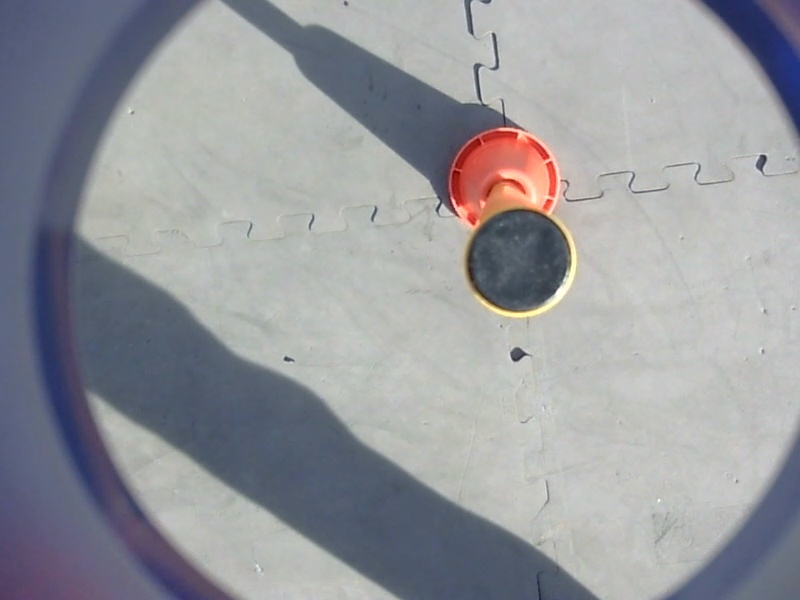tip: (460, 202, 580, 323)
